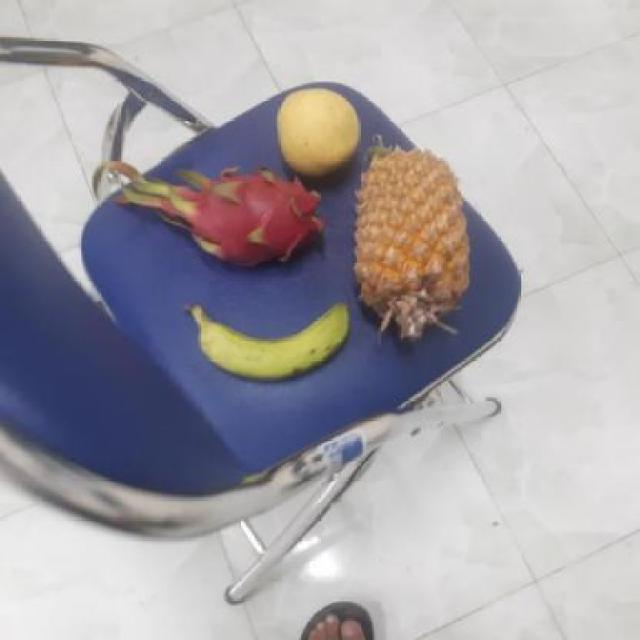banana: (193, 294, 349, 378)
dragon fruit: (157, 169, 321, 266)
pear: (272, 88, 362, 175)
pineapple: (350, 144, 468, 330)
